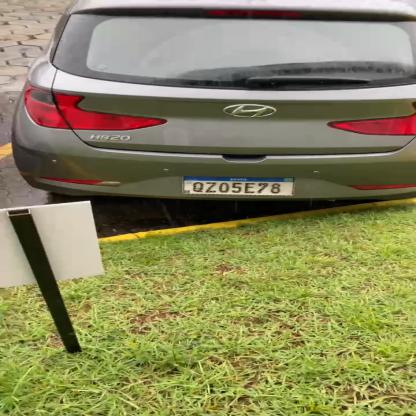Plate: (180, 175, 303, 199)
